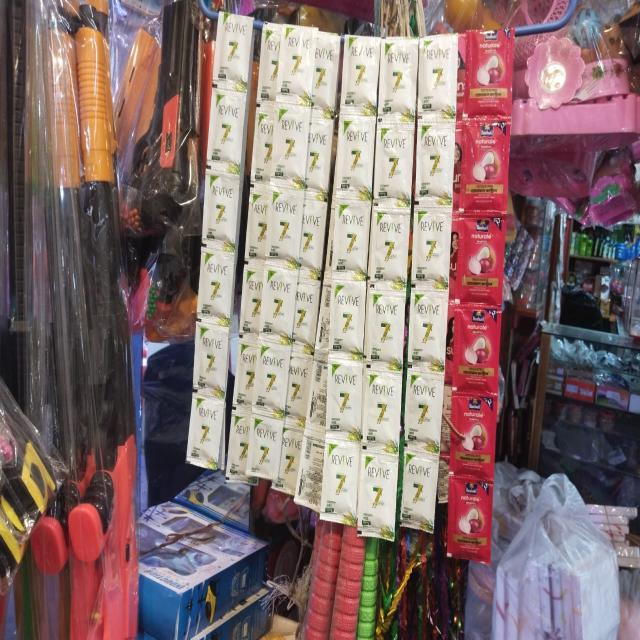non-ubl: (452, 212, 505, 306), (460, 27, 512, 122), (461, 114, 513, 208), (450, 468, 492, 563), (449, 303, 497, 385), (206, 88, 249, 175), (448, 392, 496, 469), (398, 444, 439, 533), (212, 10, 255, 94), (372, 115, 413, 202), (318, 432, 357, 522), (200, 171, 242, 253), (362, 364, 402, 448), (358, 451, 396, 538), (417, 30, 456, 114), (340, 31, 380, 112), (270, 104, 310, 185), (185, 393, 226, 472), (404, 369, 444, 449), (371, 205, 412, 283), (324, 353, 362, 437), (407, 288, 447, 367), (416, 121, 455, 202), (412, 207, 452, 285), (336, 113, 375, 193), (260, 262, 300, 340), (196, 247, 236, 325), (329, 200, 370, 276), (276, 21, 314, 102), (366, 286, 405, 364), (327, 276, 365, 356), (252, 337, 292, 413), (380, 36, 418, 116), (266, 188, 304, 264), (193, 322, 230, 395), (246, 412, 284, 482), (309, 30, 341, 112)
